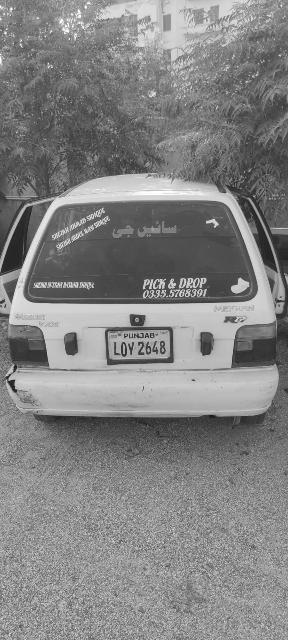Number: (112, 339, 167, 358)
